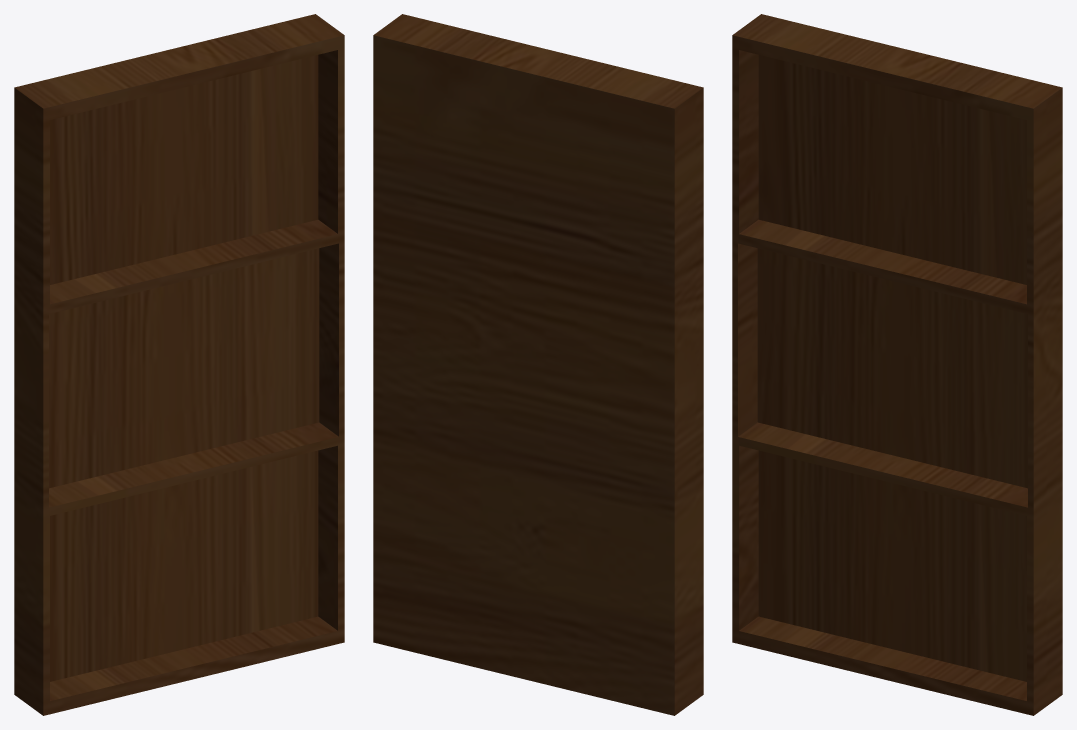
File: Armoire.fbx
The picture shows the model from 3 angles, left to right: view 1: azimuth 30°, elevation 25°; view 2: azimuth 150°, elevation 25°; view 3: azimuth 330°, elevation 25°; orthographic projection.
Visible parts, largest first — view 1: Armoire; view 2: Armoire; view 3: Armoire.
Part boxes in pixels (x1,y1,x2,y2): Armoire: (14,14,344,715); Armoire: (373,14,703,715); Armoire: (732,14,1062,715).
Size of the model in its own units: 441 by 850 by 73.57.
